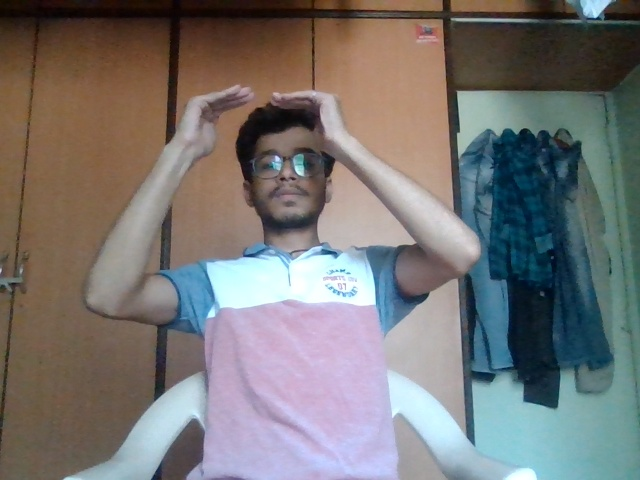afternoon: (162, 80, 391, 183)
